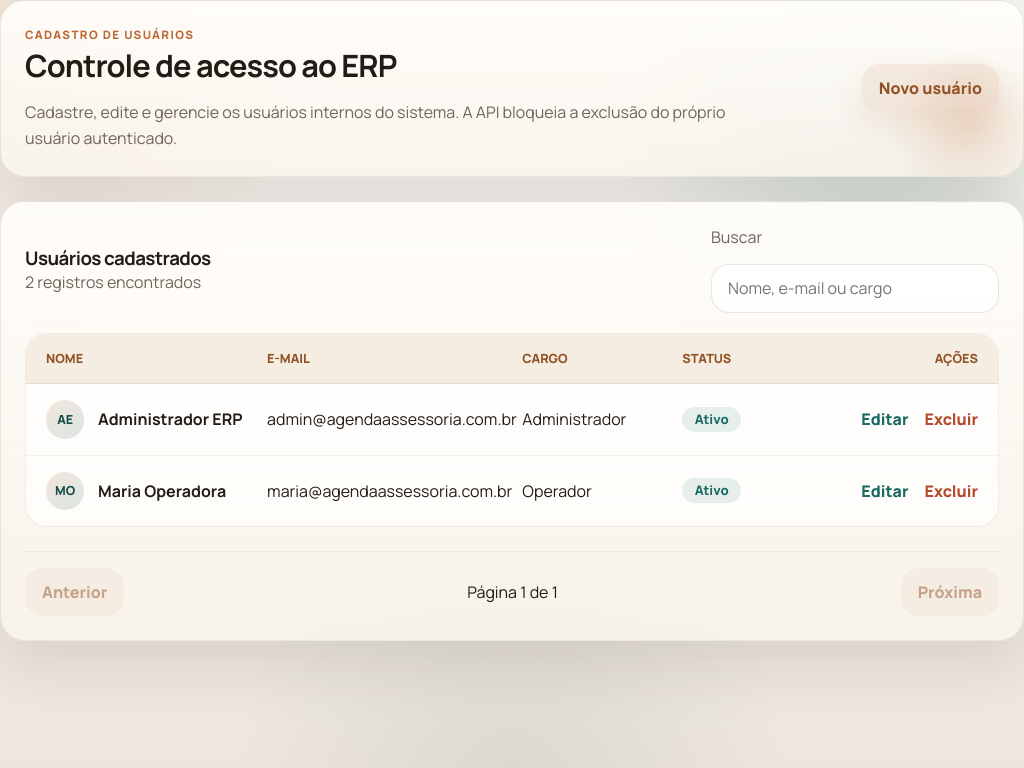
PaginaUsuariosComponent › mantém o modal aberto e exibe a mensagem da API quando a exclusão falha
Click the button with class "ui-botao--texto-alerta" in the row of "admin@agendaassessoria.com.br" at (951, 419), box [924,408,978,430]
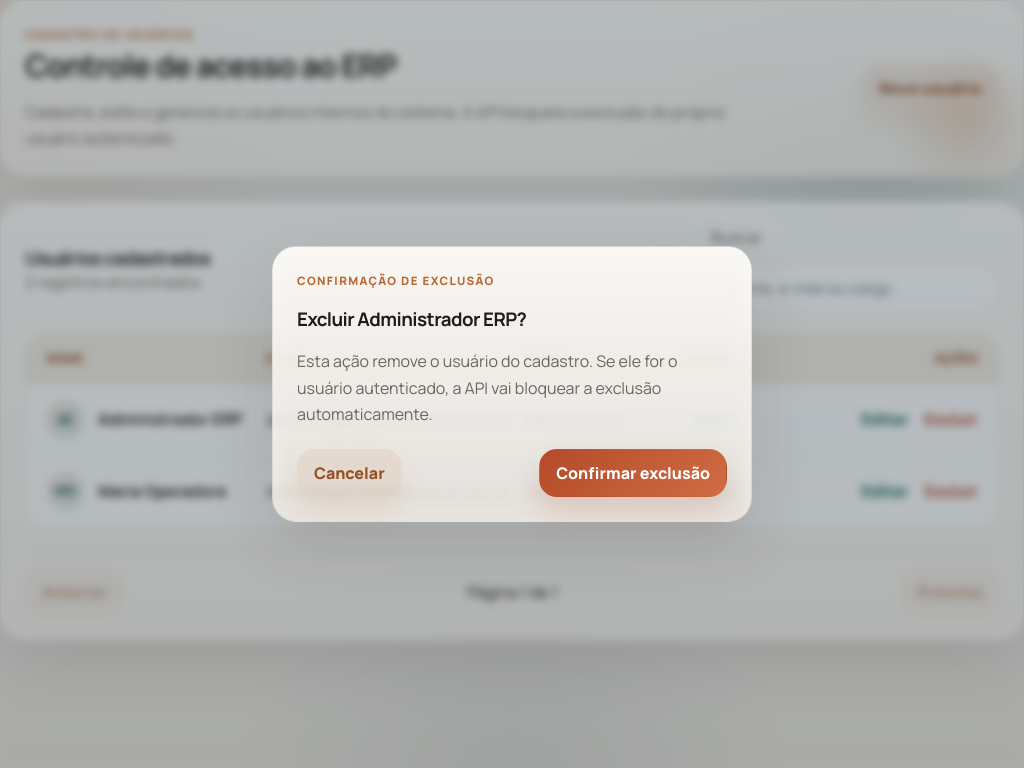
Click the button with class "ui-botao" showing "Confirmar exclusão" at (633, 473), box [539,449,727,497]
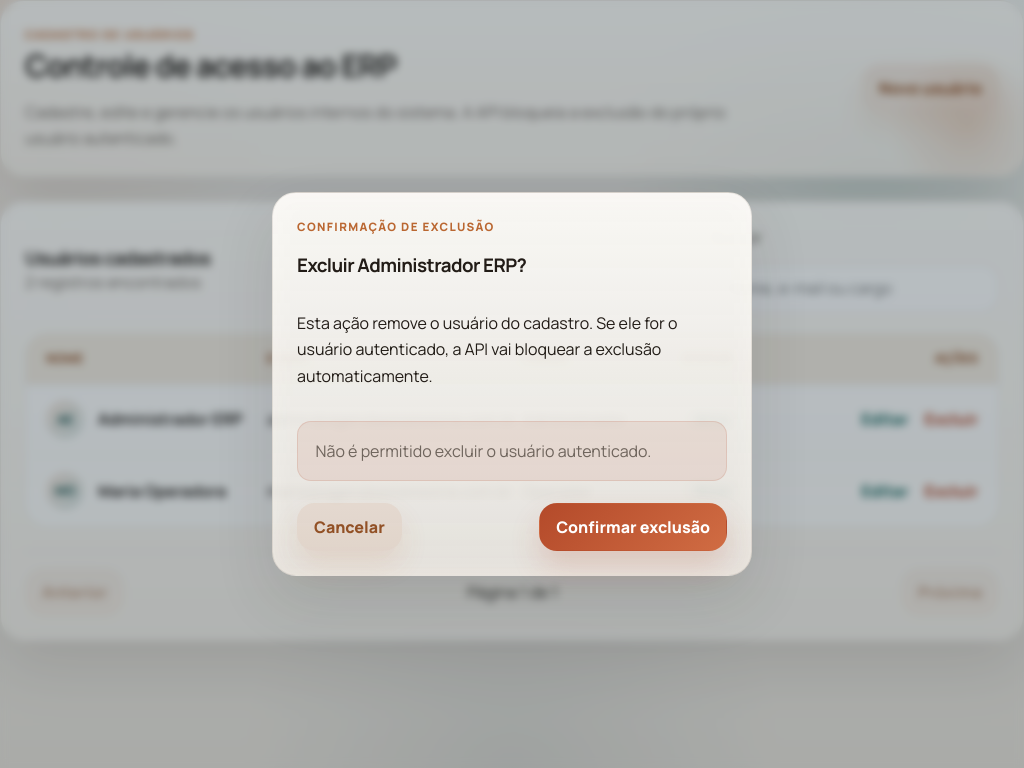
Now the dialog with class "ui-modal" is shown, box [272,192,752,576]
Now the dialog with class "ui-modal" shows "Não é permitido excluir o usuário autenticado.", box [316,440,651,462]
